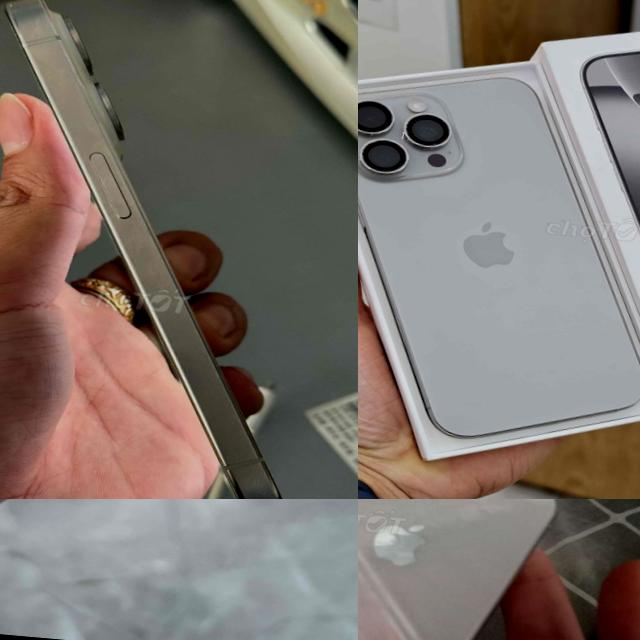gen_15: (0, 0, 340, 499)
gen_16: (358, 65, 640, 445)
gen_x_xs: (358, 499, 554, 640)
scratch: (392, 123, 416, 149), (366, 130, 379, 141), (3, 0, 18, 8), (358, 151, 363, 164)
